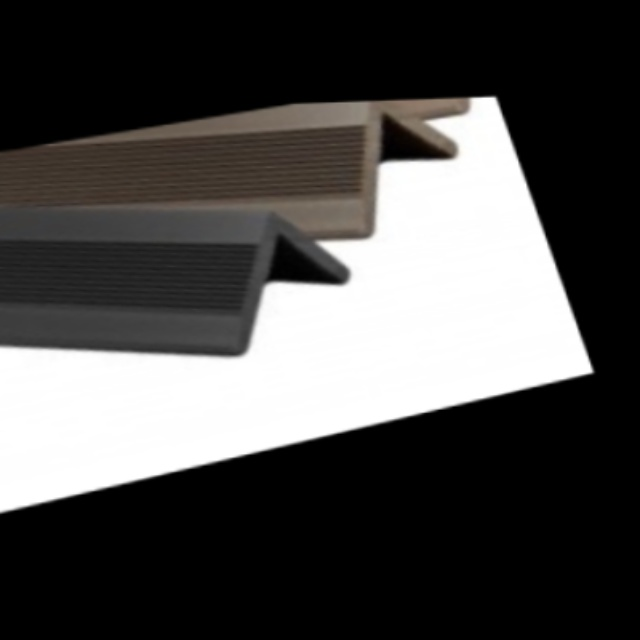Angle: (191, 209, 365, 352), (322, 98, 476, 232)
